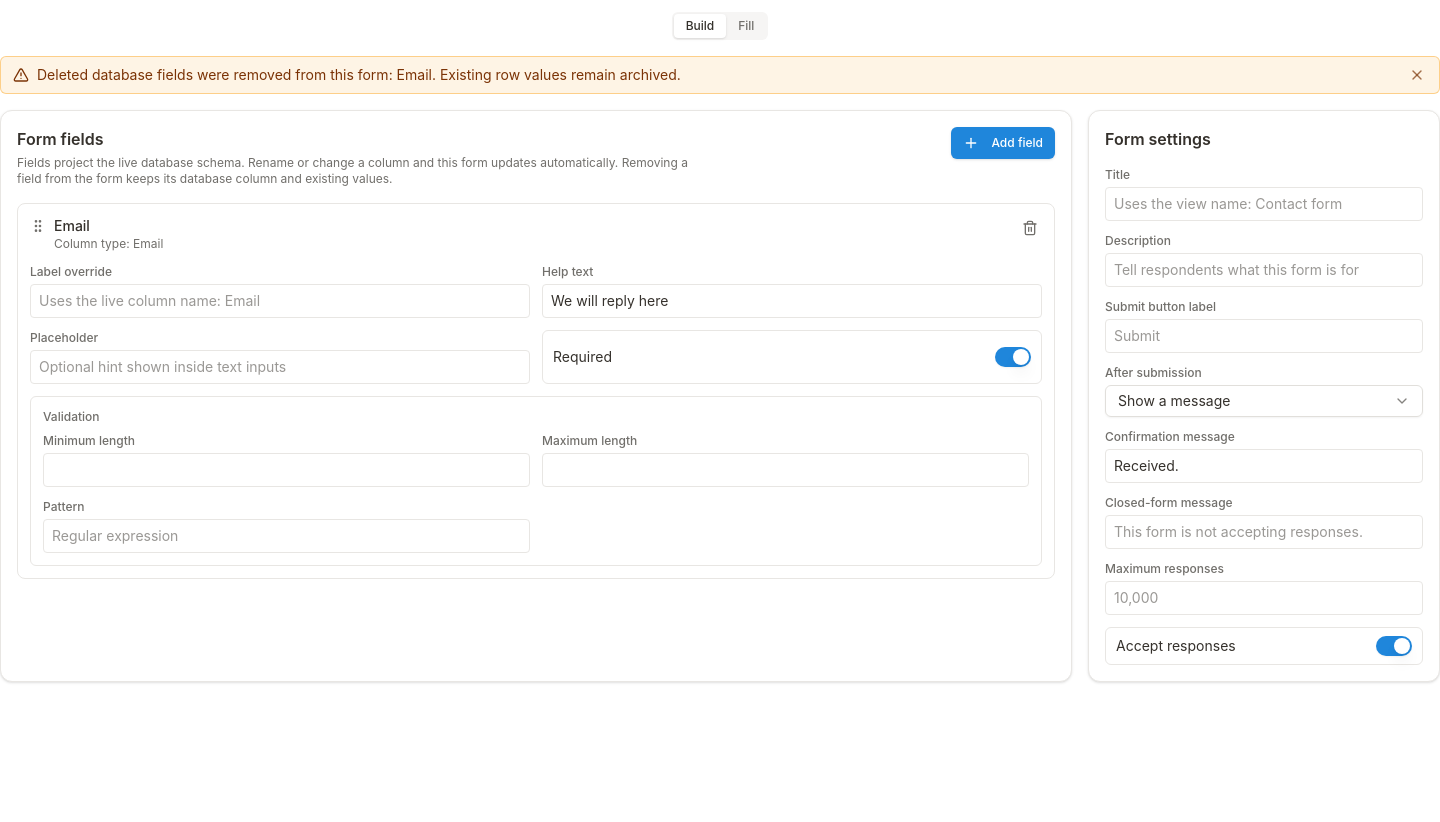
database form builder › shows and consumes the one-time deleted-column archive notice
Expected: the text "Deleted database fields were removed from this form: Email" is shown, [37, 66, 681, 83]
Click the button named "Close". click: (1417, 75)
box: [1407, 65, 1427, 85]
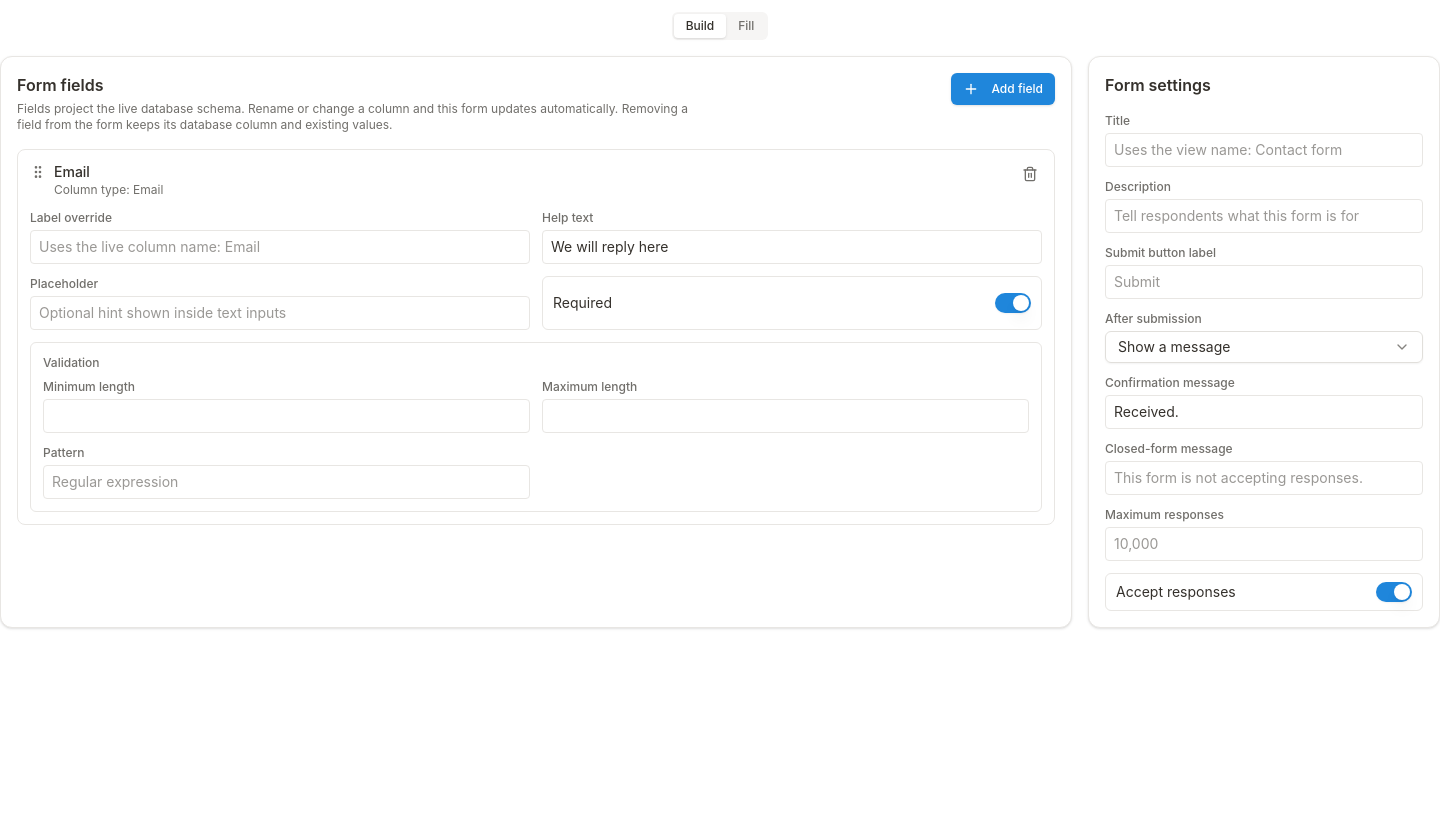
Expected: the text "Deleted database fields were removed" is gone
